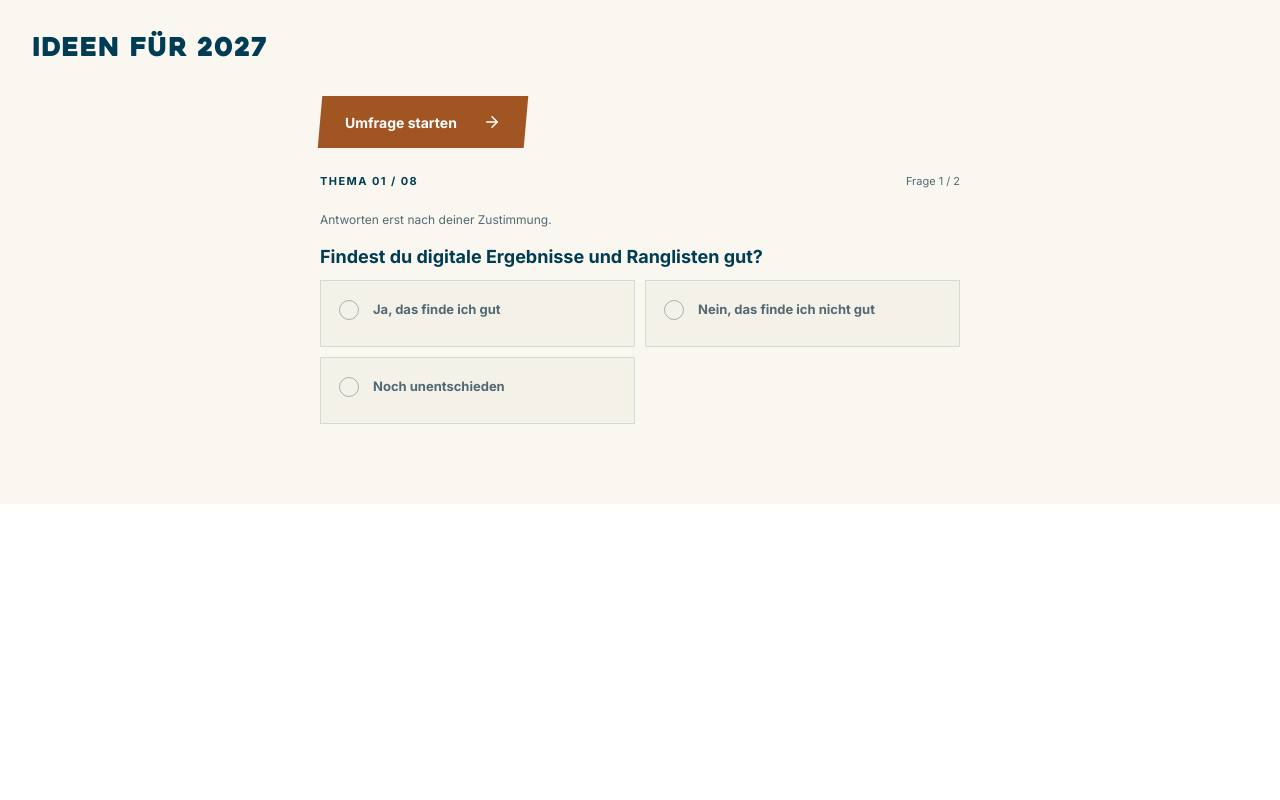
Test: automatic question-by-question survey › puts compact consent context and details in a dismissible popup above the first question
Click the button "Umfrage starten" at (423, 122), box [318, 96, 528, 148]
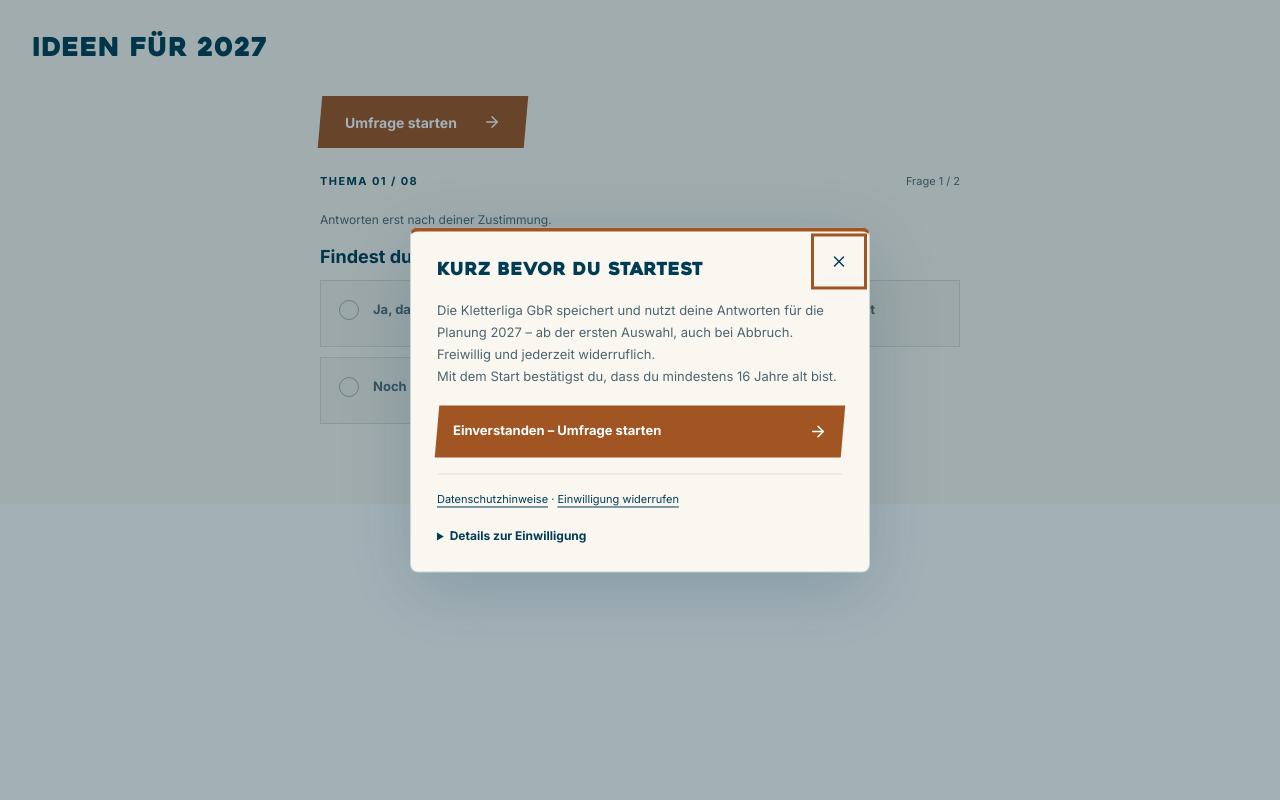
Check: the text "Die Kletterliga GbR speichert und nutzt deine Antworten" shows "ab der ersten Auswahl, auch bei Abbruch", box [437, 302, 824, 363]
Check: the text "Die Kletterliga GbR speichert und nutzt deine Antworten" shows "Freiwillig und jederzeit widerruflich", box [437, 302, 824, 363]
Check: the text "Mit dem Start bestätigst du, dass du mindestens 16" is shown, box [437, 369, 837, 385]
